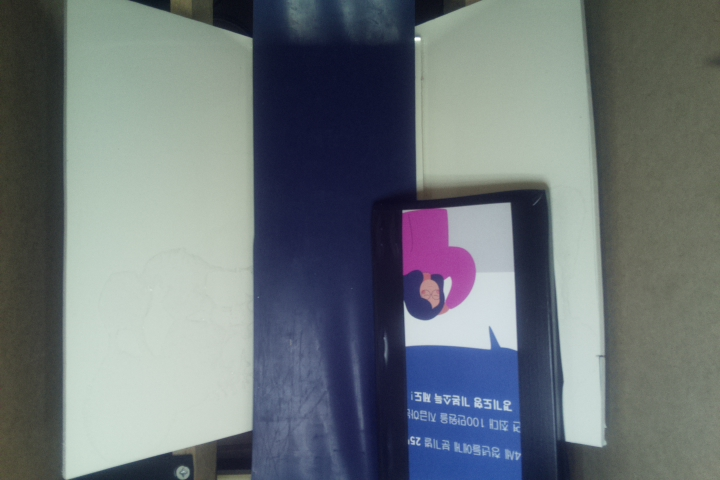book: (375, 188, 563, 480)
